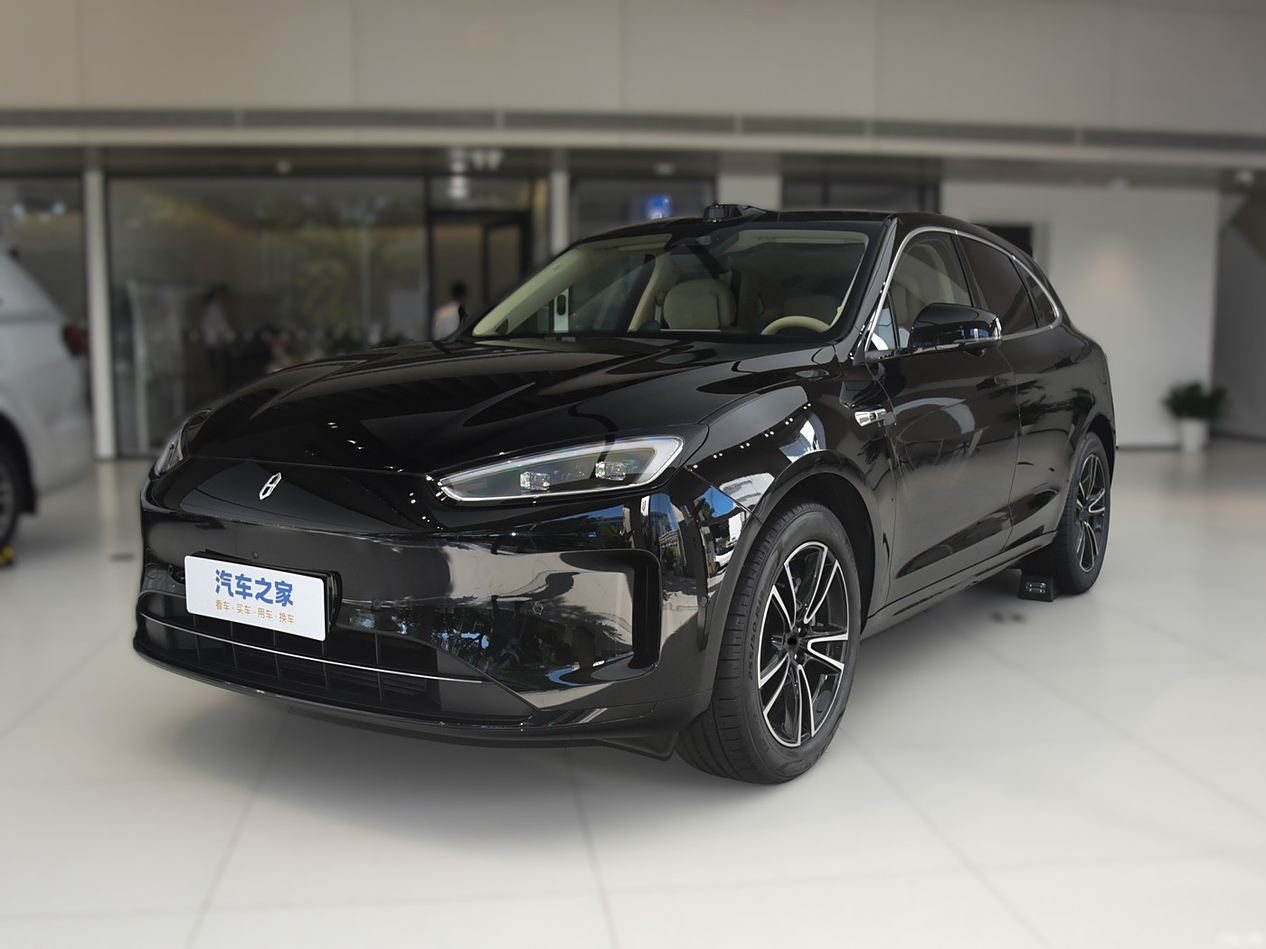AITO: (260, 472, 281, 499)
